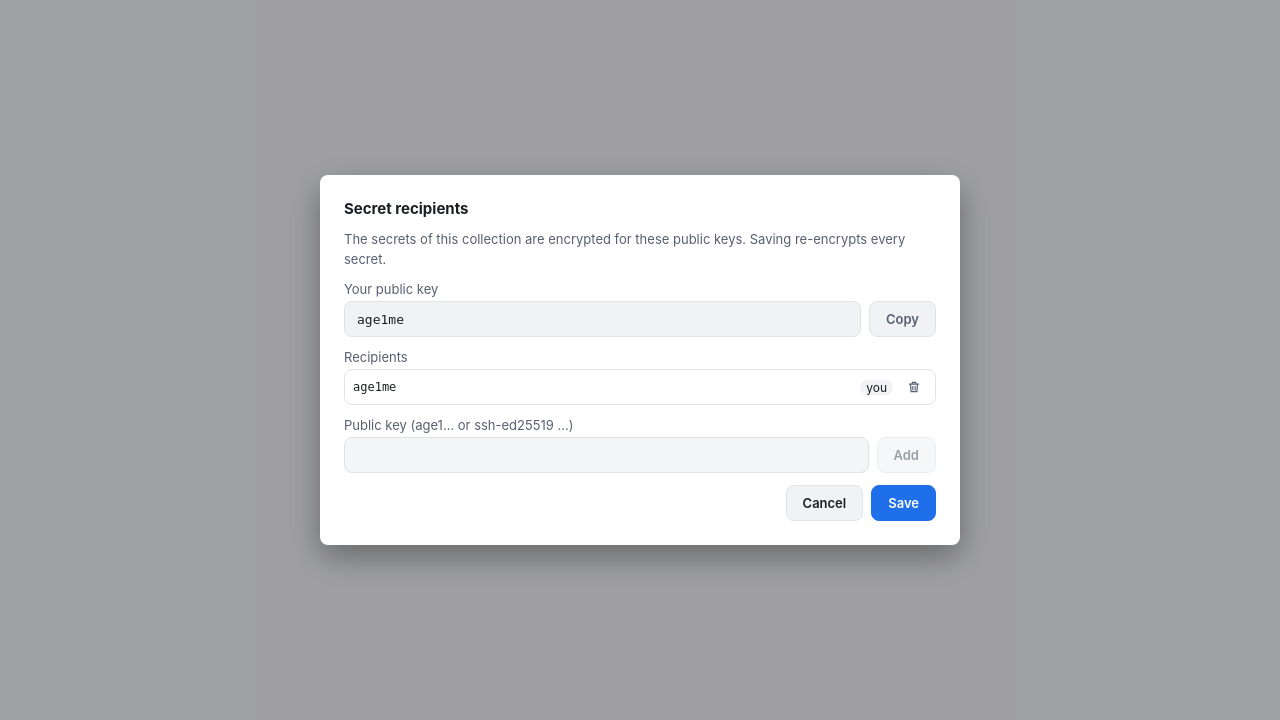
it: RecipientsDialog › adds with Enter or the button, removes and warns without the own key
The width and height of the screenshot is (1280, 720).
Expected: the button "Add" is disabled, [876,437,936,473]
Type "age1team" into the field labelled "Public key (age1… or ssh-ed25519 …)" at (606, 455), box [344,437,868,473]
Then press Enter
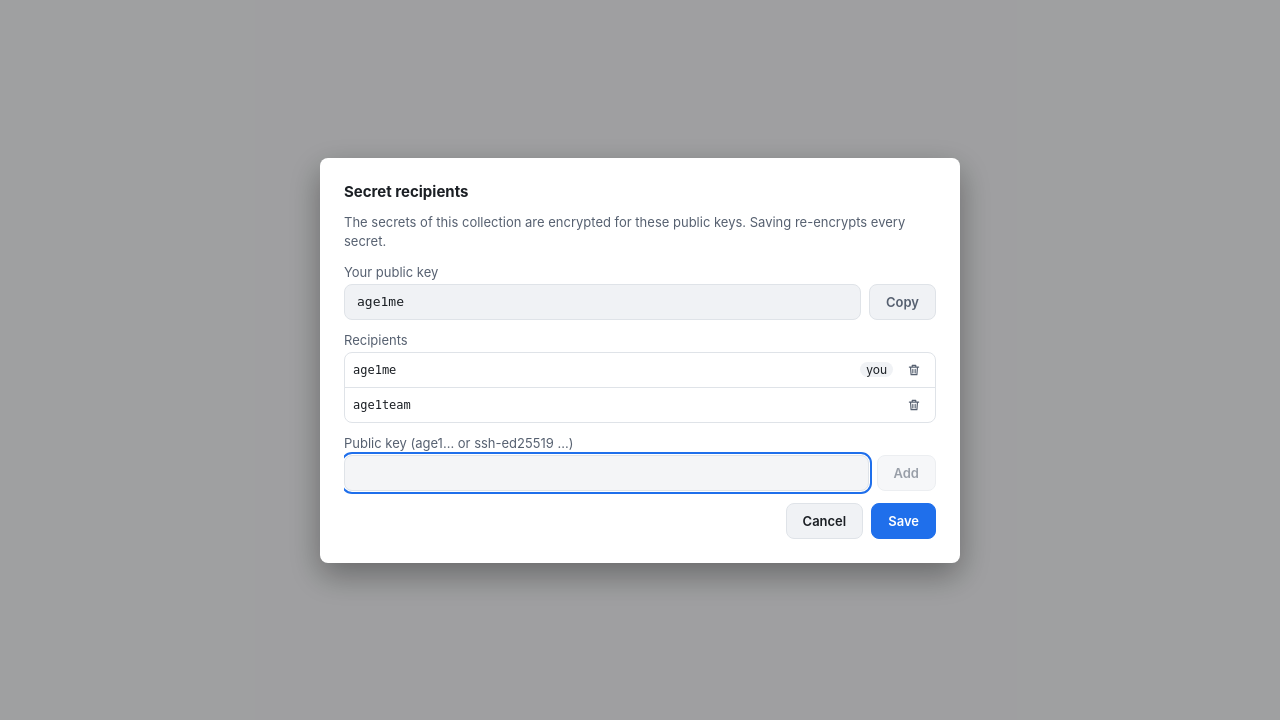
Type "age1ci" into the field labelled "Public key (age1… or ssh-ed25519 …)" at (606, 472), box [344,454,868,490]
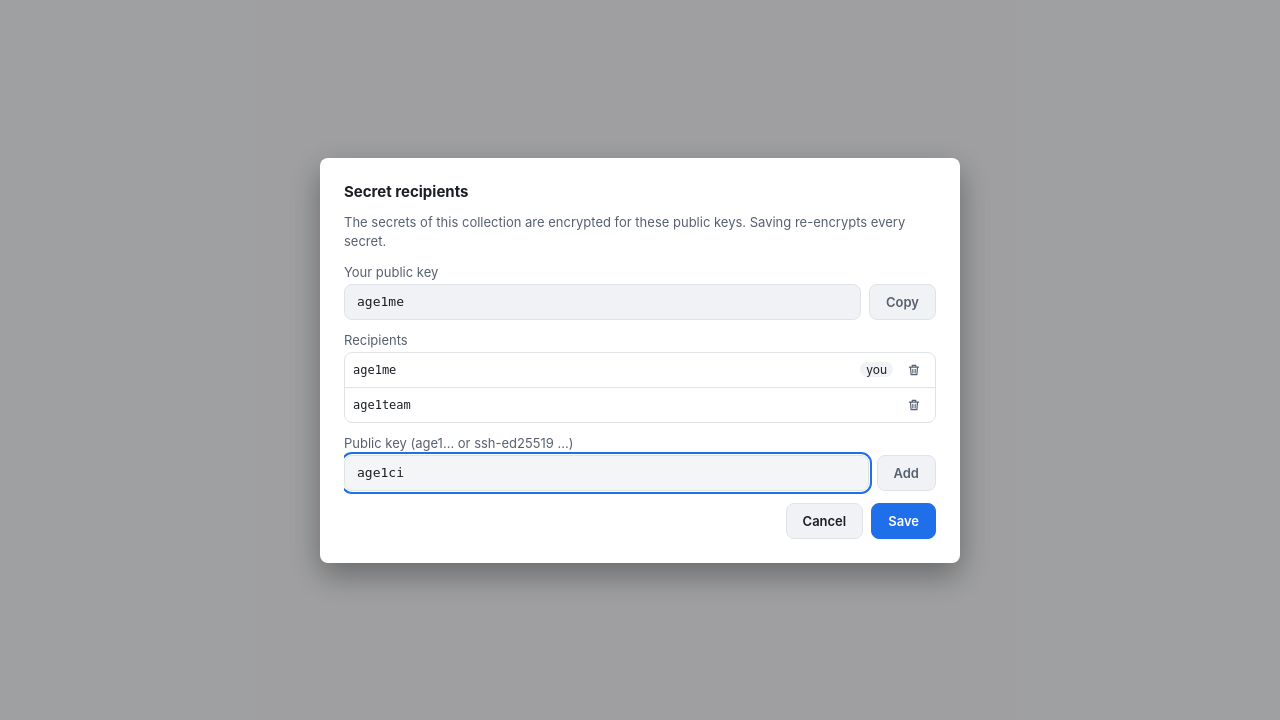
Click the button "Add" at (906, 472), box [876,454,936,490]
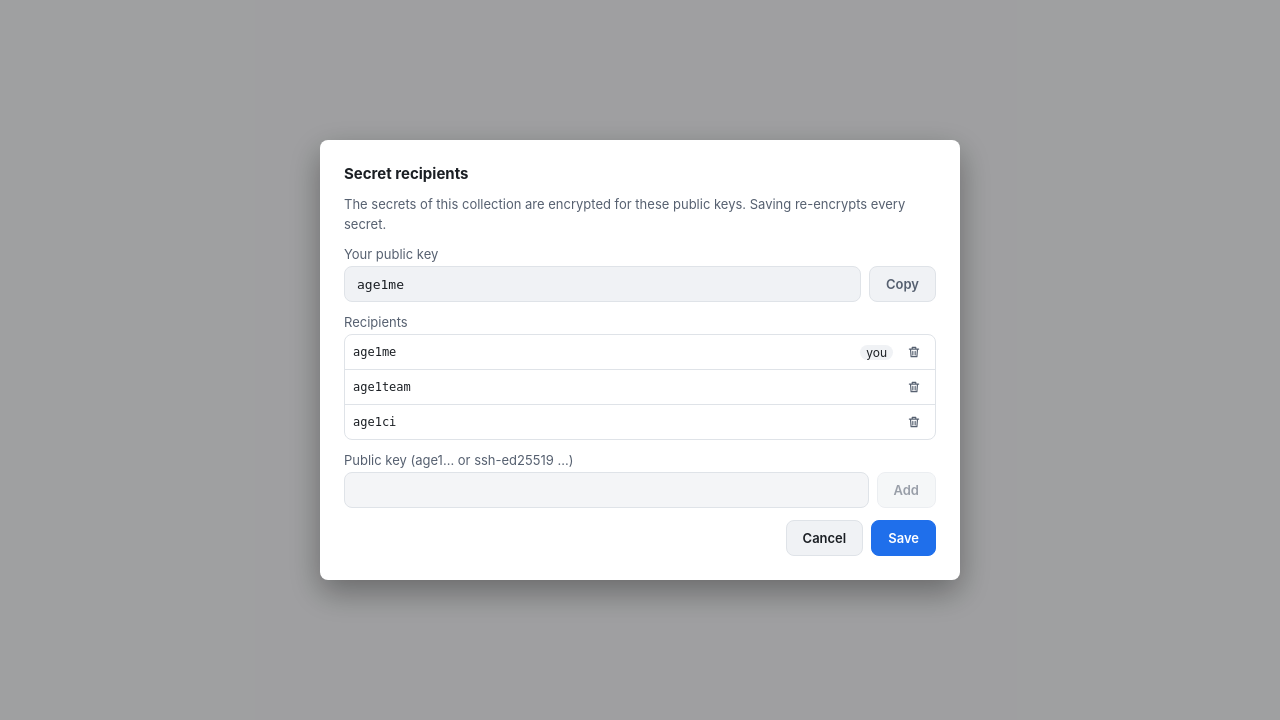
Expected: the text "age1team" is shown, [353,380,411,394]
Expected: the text "age1ci" is shown, [353,415,396,429]
Click the button named "Remove recipient" in the row of "age1me" at (914, 352), box [901,339,927,365]
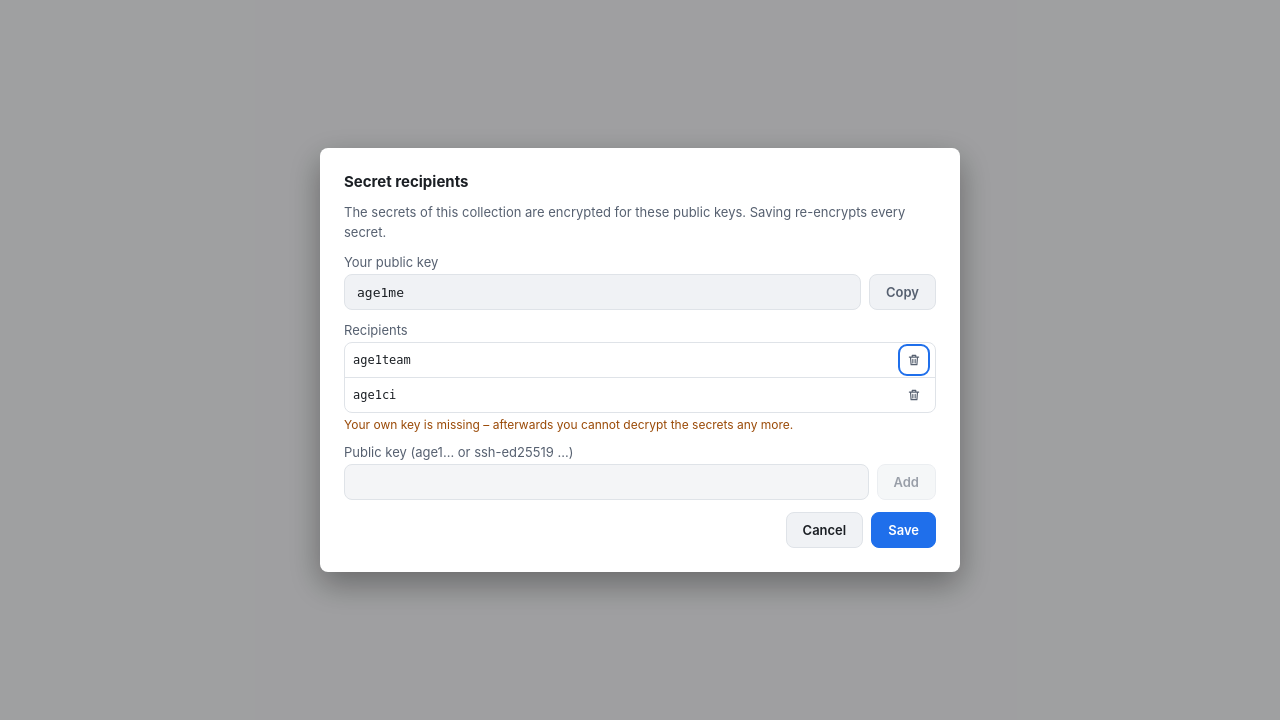
Expected: the message shows "Your own key is missing", [344,417,793,432]
